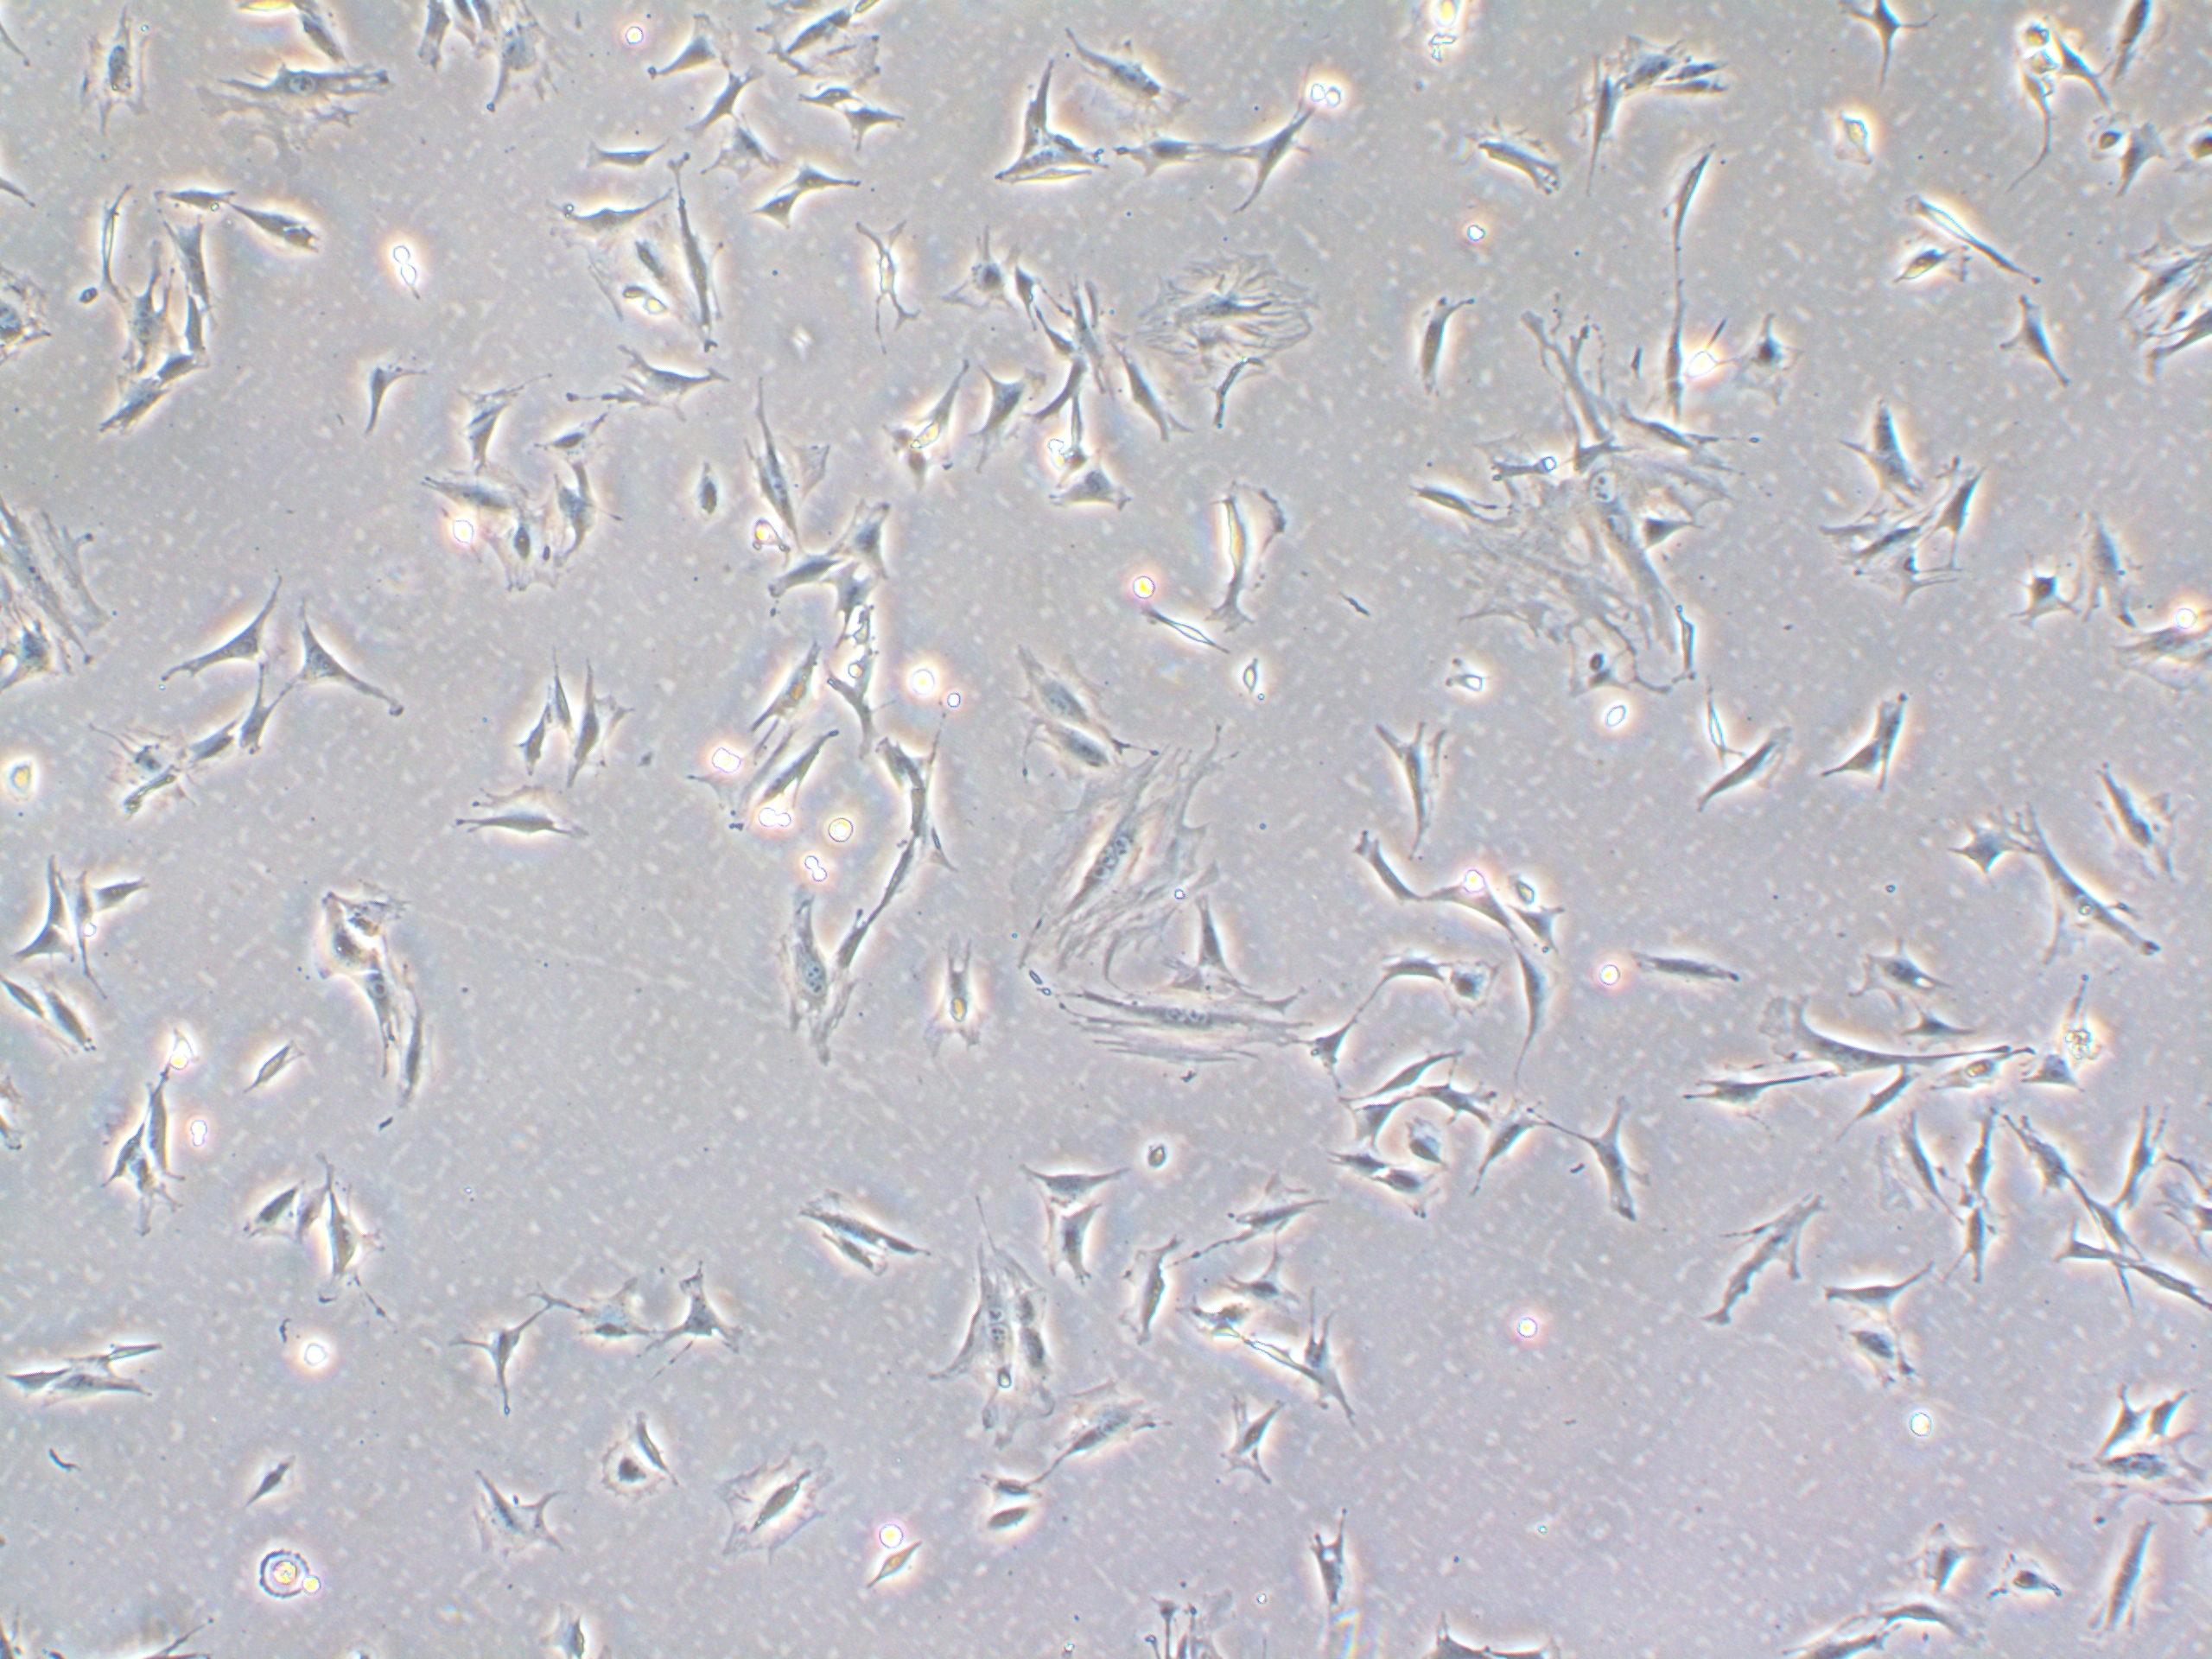small: (582, 1434, 672, 1518), (1822, 84, 1888, 188), (228, 1030, 312, 1107), (244, 1535, 327, 1608), (2073, 103, 2144, 176), (1221, 647, 1282, 725), (1435, 652, 1494, 713)
spread: (1463, 319, 1735, 713), (988, 751, 1235, 985), (1031, 927, 1320, 1100), (927, 1209, 1062, 1469), (1123, 228, 1322, 396), (0, 465, 127, 701), (181, 54, 406, 171), (749, 884, 867, 1077), (712, 1429, 850, 1565), (1012, 631, 1139, 767), (475, 477, 568, 615), (2114, 218, 2212, 343), (75, 12, 165, 124)
